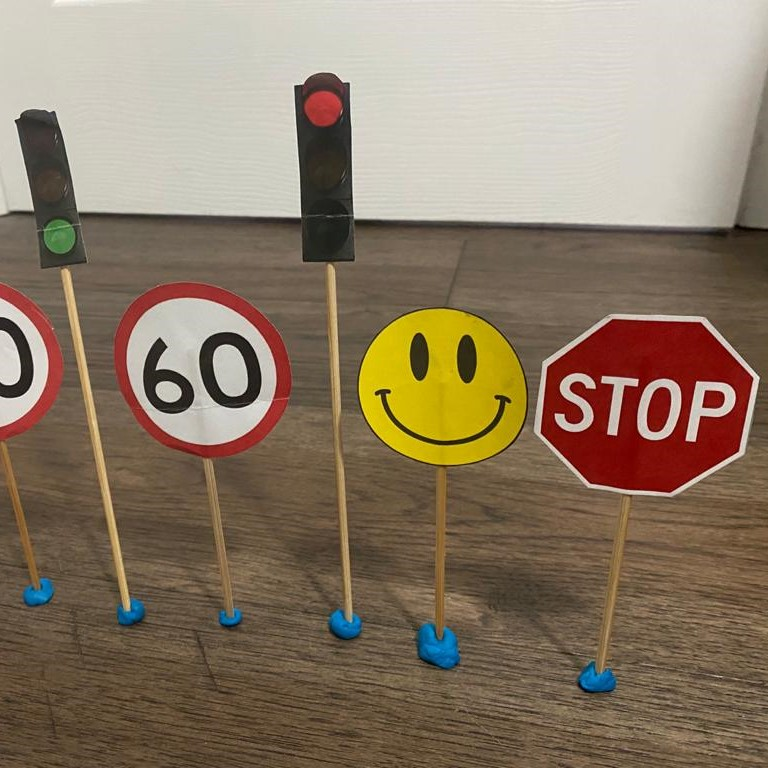Green Traffic Light: (14, 108, 90, 270)
Person: (353, 304, 529, 473)
Red Traffic Light: (290, 73, 359, 264)
Speed Limit 60: (111, 276, 294, 458)
Stop Sign: (534, 310, 761, 499)
